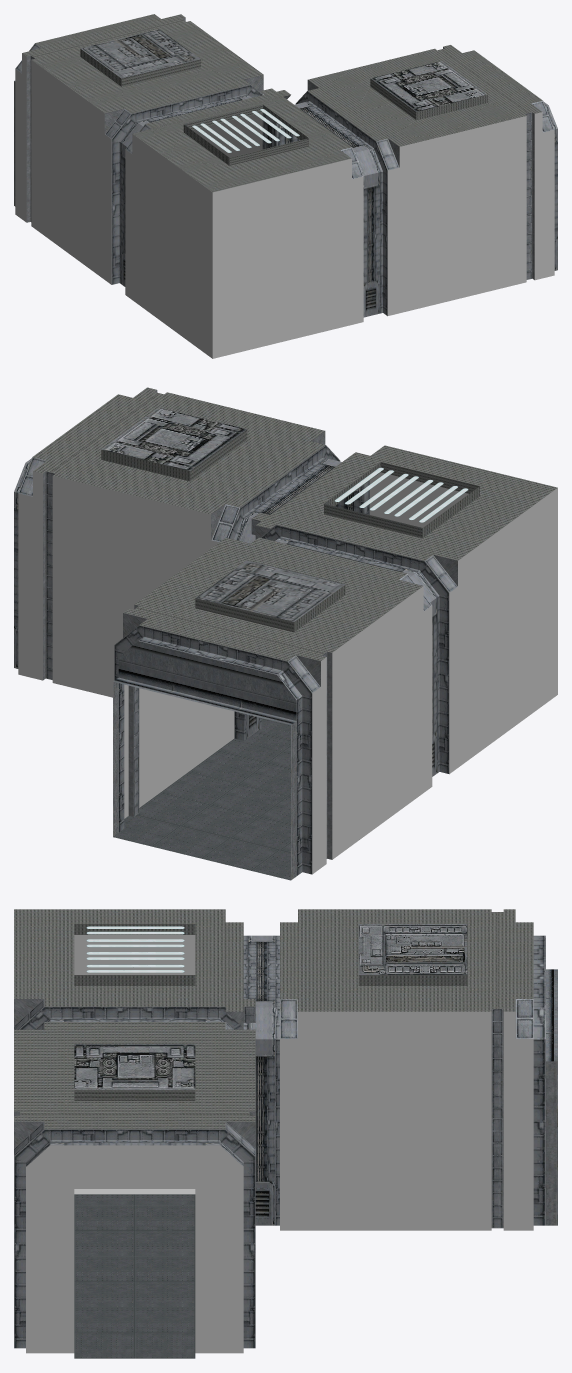
Rendered from poi_all_impl_bunker_warren_s01_r23_hall23_mesh_r23.fbx.
3 views of the same model, one above another, from view 1: azimuth 30°, elevation 25°; view 2: azimuth 150°, elevation 25°; view 3: azimuth 270°, elevation 25° (orthographic). The views are drawn at different scales.
Parts seen in each view (by area): view 1: mesh_node; view 2: mesh_node; view 3: mesh_node.
Boxes of the visible parts, box(x1,y1,x2,y2) form: mesh_node: box(14, 14, 557, 358); mesh_node: box(14, 387, 557, 880); mesh_node: box(14, 909, 557, 1358).
Bounding box in the file's own units: 9 × 4.2 × 9.
